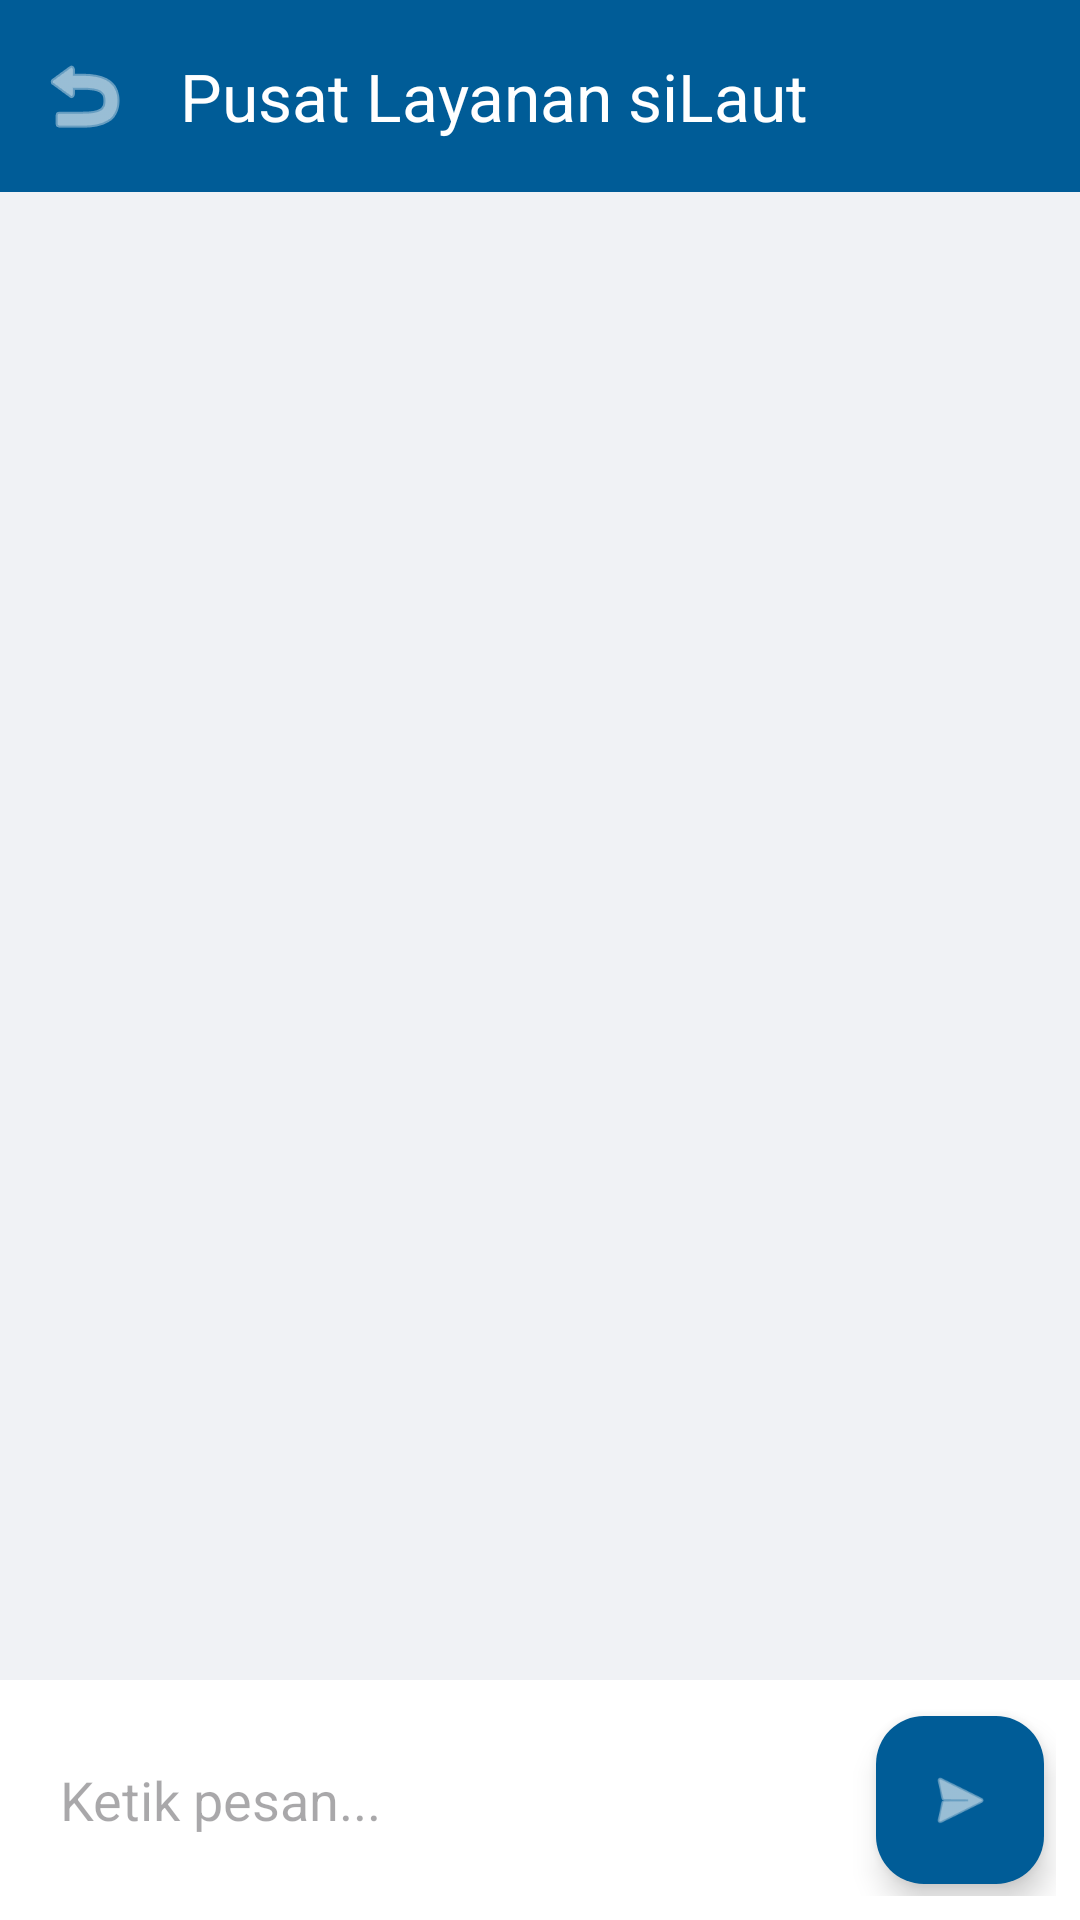

Icon click points for this 1080 x 1920 phone screenshot, format (x=x, y=y):
send: (x=960, y=1800)
